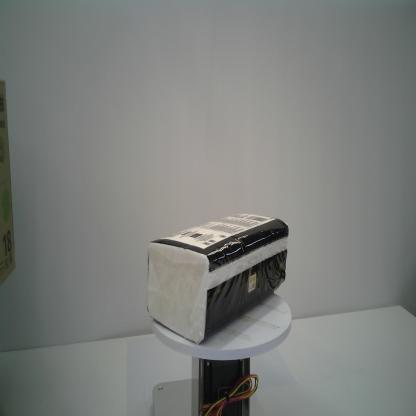Tissue: (145, 212, 290, 348)
